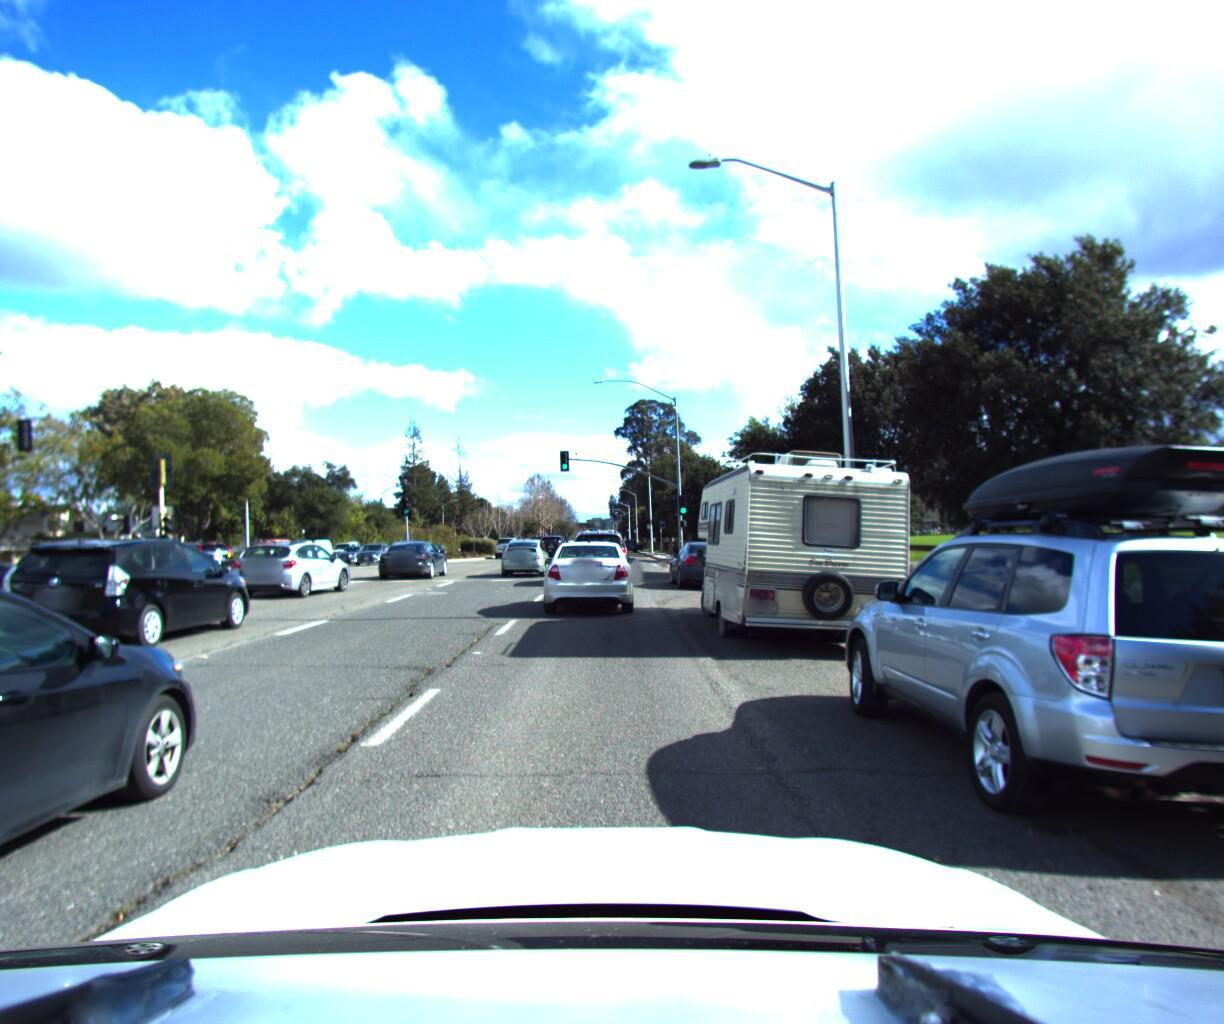car: (813, 397, 1224, 892), (0, 496, 217, 1024), (0, 539, 265, 663), (220, 535, 368, 606), (528, 524, 630, 621), (141, 542, 243, 589), (669, 539, 743, 593), (374, 538, 454, 585), (574, 521, 633, 580), (249, 539, 312, 575), (498, 539, 551, 580), (286, 541, 338, 573), (355, 543, 397, 568), (0, 570, 26, 607), (538, 538, 571, 566), (336, 546, 377, 567), (491, 540, 522, 562)
other_vehicle: (681, 428, 939, 659)
